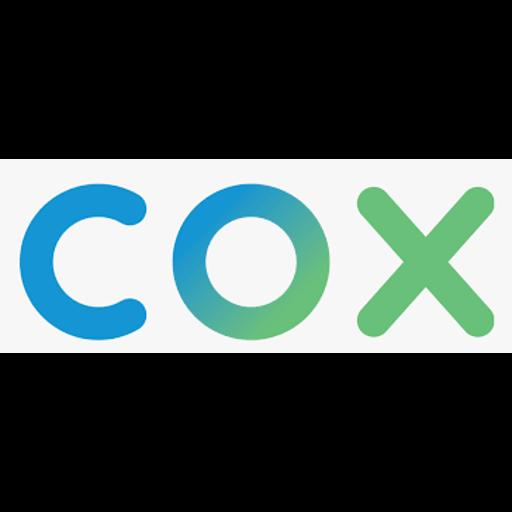Cox Communications: (0, 159, 512, 353)
